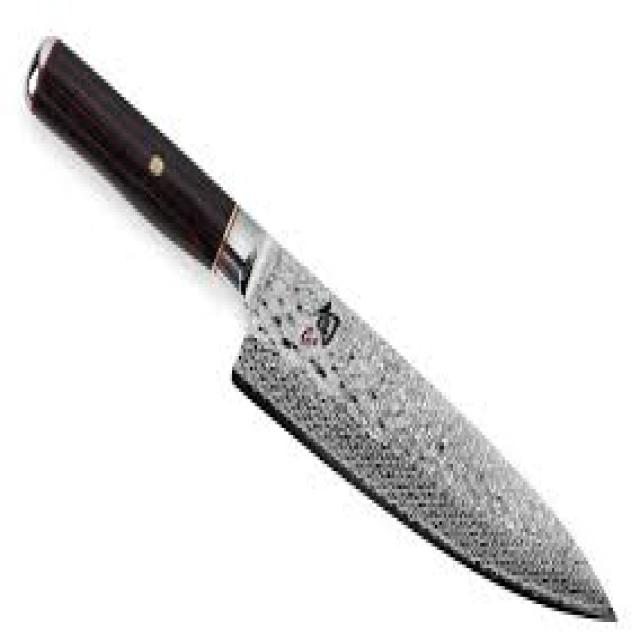knives: (20, 25, 618, 629)
